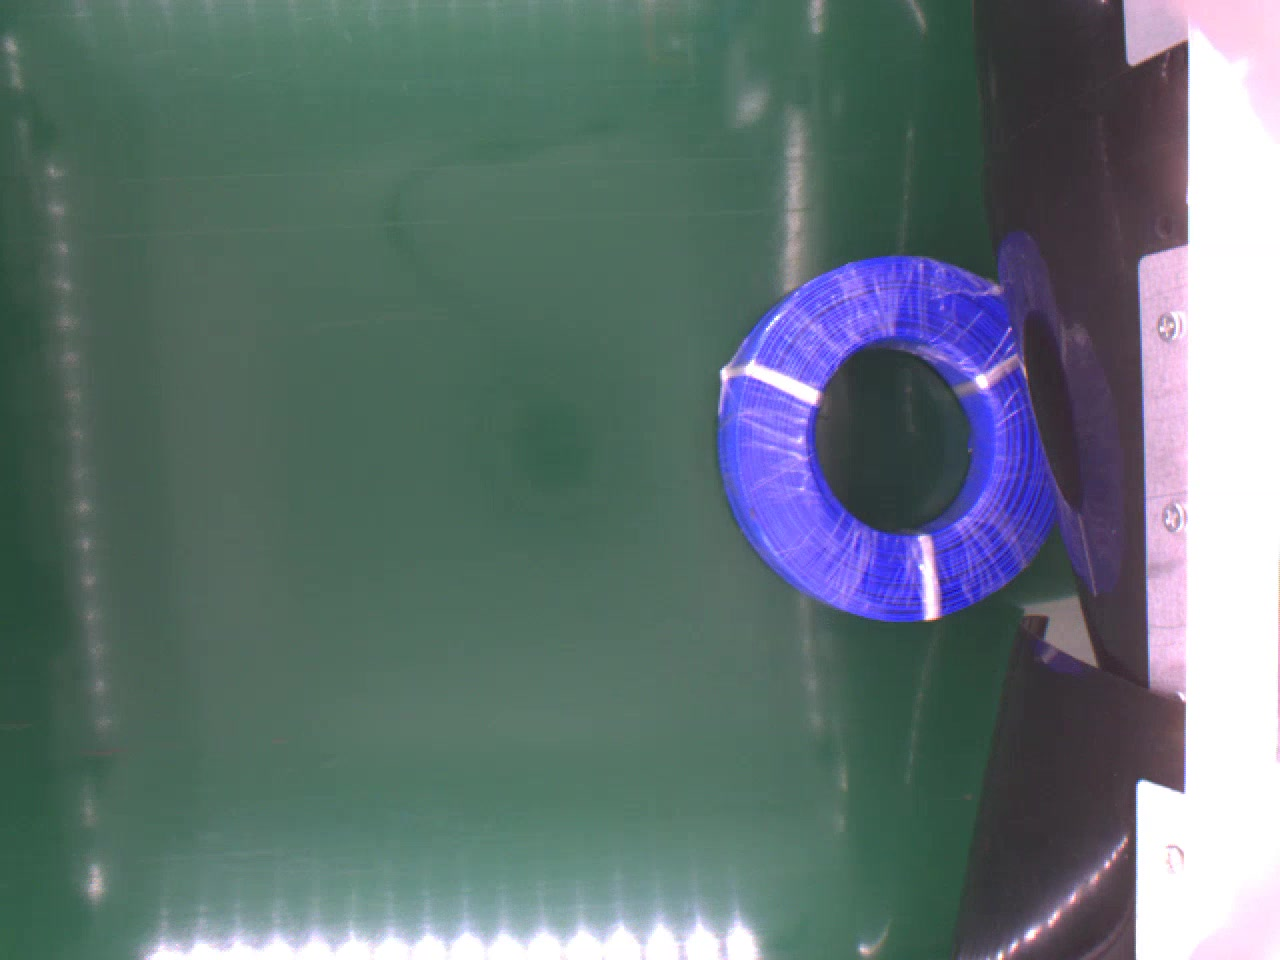blue: (722, 251, 1055, 614)
